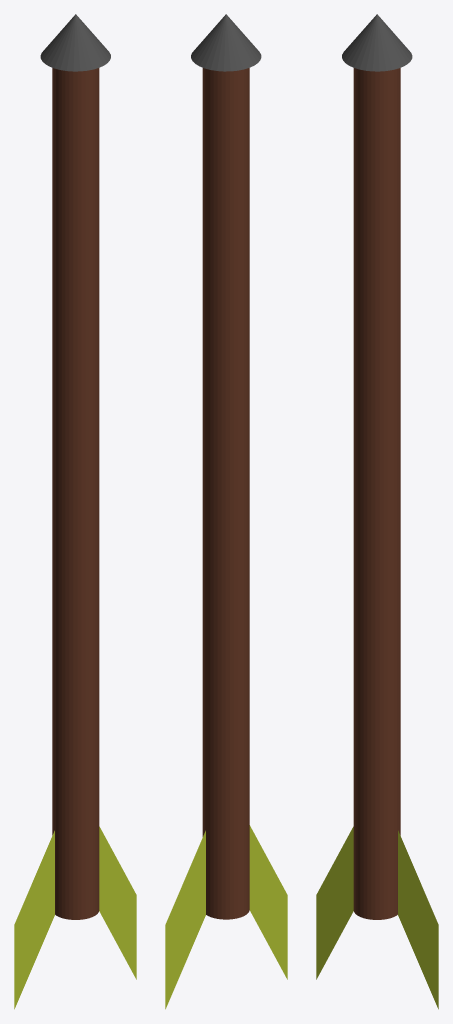
File: Arrow.fbx
3 renders of one model, left to right at view 1: azimuth 30°, elevation 25°; view 2: azimuth 210°, elevation 25°; view 3: azimuth 330°, elevation 25°, orthographic.
Parts seen in each view (by area): view 1: Arrow; view 2: Arrow; view 3: Arrow.
Boxes of the visible parts, x1,y1,x2,y2 form: Arrow: [14, 14, 136, 1009]; Arrow: [165, 14, 287, 1009]; Arrow: [316, 14, 438, 1009].
Bounding box in the file's own units: 29.99 × 230 × 15.
